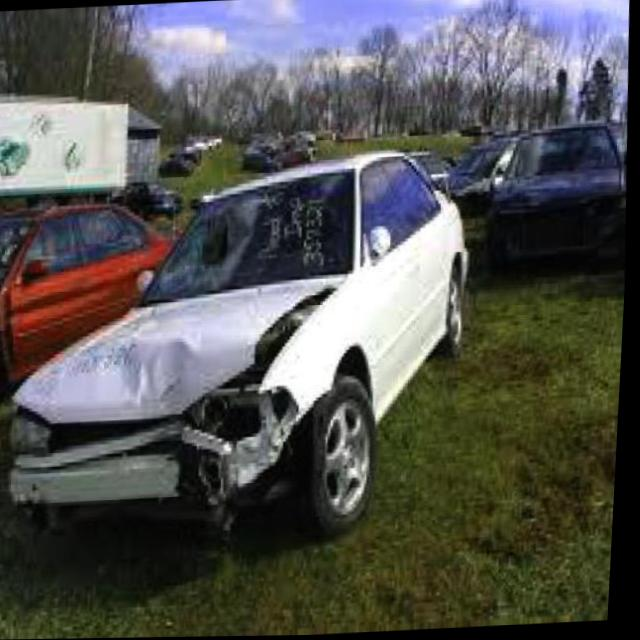Car-Damage: (9, 271, 361, 531)
